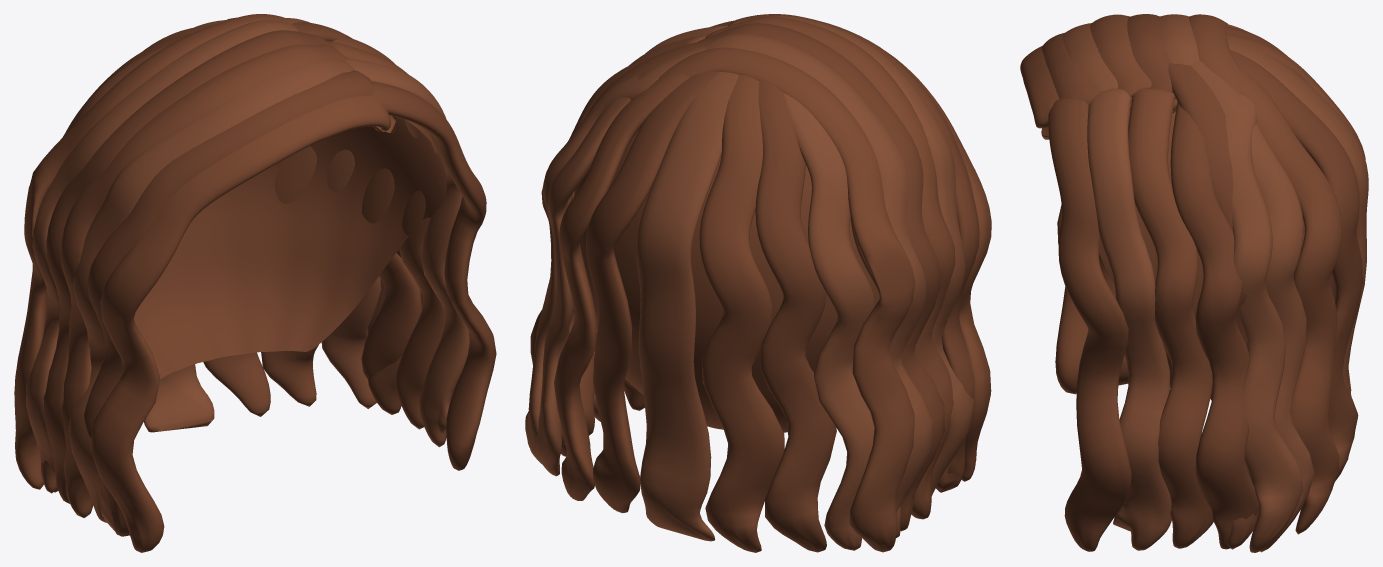
File: Feminine-Feminine-curls-pashmina261-hair-c2b8fad2.glb
The picture shows the model from 3 angles, left to right: view 1: azimuth 30°, elevation 25°; view 2: azimuth 150°, elevation 25°; view 3: azimuth 270°, elevation 25°; orthographic projection.
Parts seen in each view (by area): view 1: 226 hair / Hair / sculpted 0.001, 226 hair / Hair / sculpted 1.002, 226 hair / Hair / sculpted 1.001, 226 hair / Hair / sculpted 2.001; view 2: 226 hair / Hair / sculpted 0.001, 226 hair / Hair / sculpted 2.001, 226 hair / Hair / sculpted 1.002, 226 hair / Hair / sculpted 1.001; view 3: 226 hair / Hair / sculpted 1.002, 226 hair / Hair / sculpted 2.001, 226 hair / Hair / sculpted 0.001, 226 hair / Hair / sculpted 1.001.
Part boxes in pixels (x1,y1,x2,y2): 226 hair / Hair / sculpted 0.001: [14, 14, 444, 552]; 226 hair / Hair / sculpted 1.002: [43, 17, 496, 536]; 226 hair / Hair / sculpted 1.001: [134, 117, 446, 379]; 226 hair / Hair / sculpted 2.001: [26, 18, 469, 522]; 226 hair / Hair / sculpted 0.001: [554, 16, 991, 552]; 226 hair / Hair / sculpted 2.001: [525, 15, 974, 550]; 226 hair / Hair / sculpted 1.002: [530, 14, 979, 552]; 226 hair / Hair / sculpted 1.001: [574, 129, 879, 432]; 226 hair / Hair / sculpted 1.002: [1042, 14, 1362, 551]; 226 hair / Hair / sculpted 2.001: [1063, 14, 1368, 552]; 226 hair / Hair / sculpted 0.001: [1020, 14, 1365, 548]; 226 hair / Hair / sculpted 1.001: [1099, 111, 1335, 400].
Size of the model in its own units: 0.9172 by 0.9886 by 0.696.
